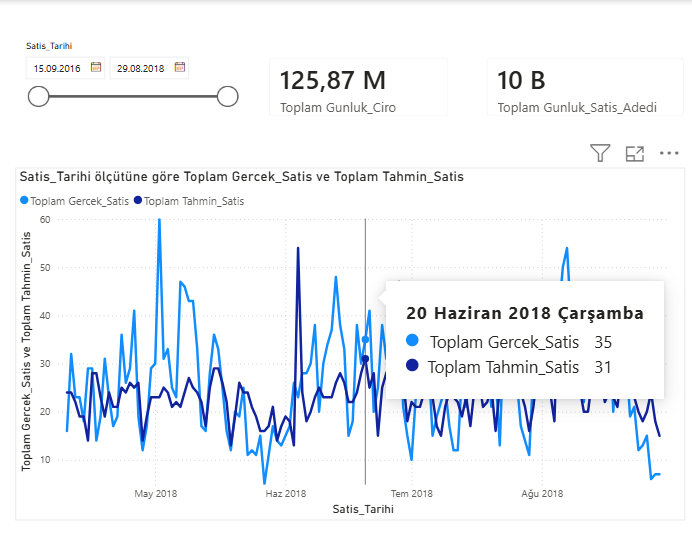

The page's visual inventory and layout, read from the dashboard file:
{"tool":"powerbi","page":{"name":"1. sayfa","canvas":[1280,720],"ordinal":0},"visuals":[{"type":"slicer","fields":{"Values":["v_DailySupplyChainForecast.Satis_Tarihi"]},"box":[19.7,43.9,278.5,130.1],"z":0},{"type":"lineChart","fields":{"Category":["Olist_Model_Predictions.Satis_Tarihi"],"Y":["Sum(Olist_Model_Predictions.Gercek_Satis)","Sum(Olist_Model_Predictions.Tahmin_Satis)"]},"box":[19.7,202.8,811.2,426.8],"z":1000},{"type":"cardVisual","fields":{"Data":["Sum(v_DailySupplyChainForecast.Gunluk_Ciro)"]},"box":[310.2,53,251.2,105.9],"z":1001},{"type":"cardVisual","fields":{"Data":["Sum(v_DailySupplyChainForecast.Gunluk_Satis_Adedi)"]},"box":[573.6,53,273.9,105.9],"z":1002}]}

Visuals, with their boxes on the page's 1280x720 design canvas (x1, y1, x2, y2). These are canvas units, not pixel positions in the 692x542 screenshot, which may show the page scaled, cropped or inside an application window:
slicer - v_DailySupplyChainForecast.Satis_Tarihi: [20,44,298,174]
lineChart - Olist_Model_Predictions.Satis_Tarihi x Sum(Olist_Model_Predictions.Gercek_Satis): [20,203,831,630]
cardVisual - Sum(v_DailySupplyChainForecast.Gunluk_Ciro): [310,53,561,159]
cardVisual - Sum(v_DailySupplyChainForecast.Gunluk_Satis_Adedi): [574,53,848,159]
